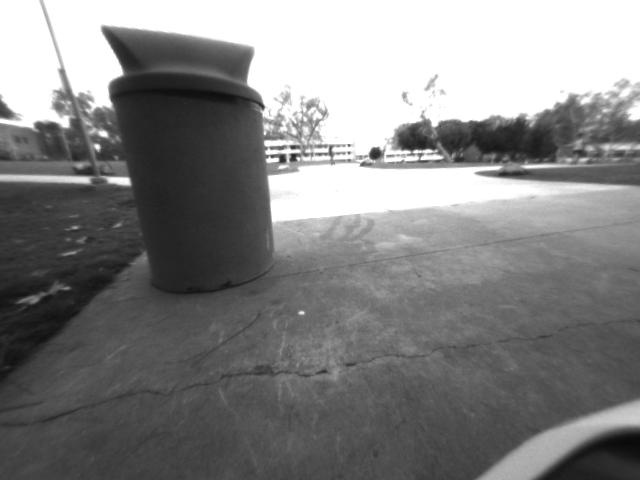trashcan: (90, 12, 290, 287)
